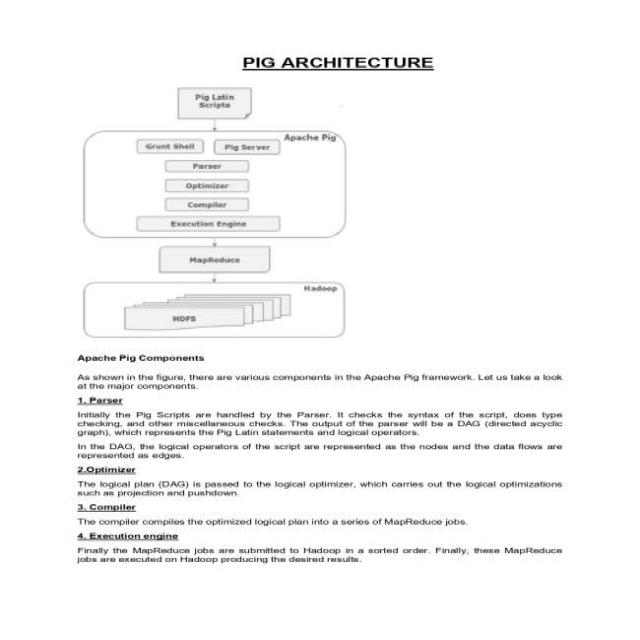Figure Detection - v3 Dataset Version2: (63, 75, 381, 347)
